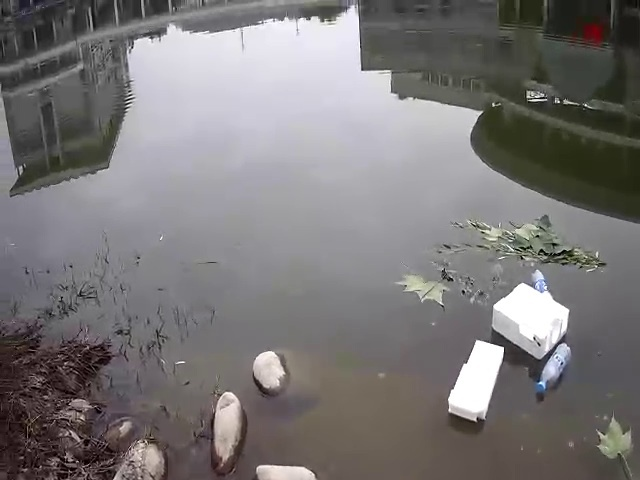bottle: (538, 342, 573, 395), (524, 266, 562, 299)
leaf: (441, 212, 603, 267), (393, 266, 452, 316), (585, 412, 639, 463)
paomo: (482, 283, 570, 352), (446, 337, 505, 427)
